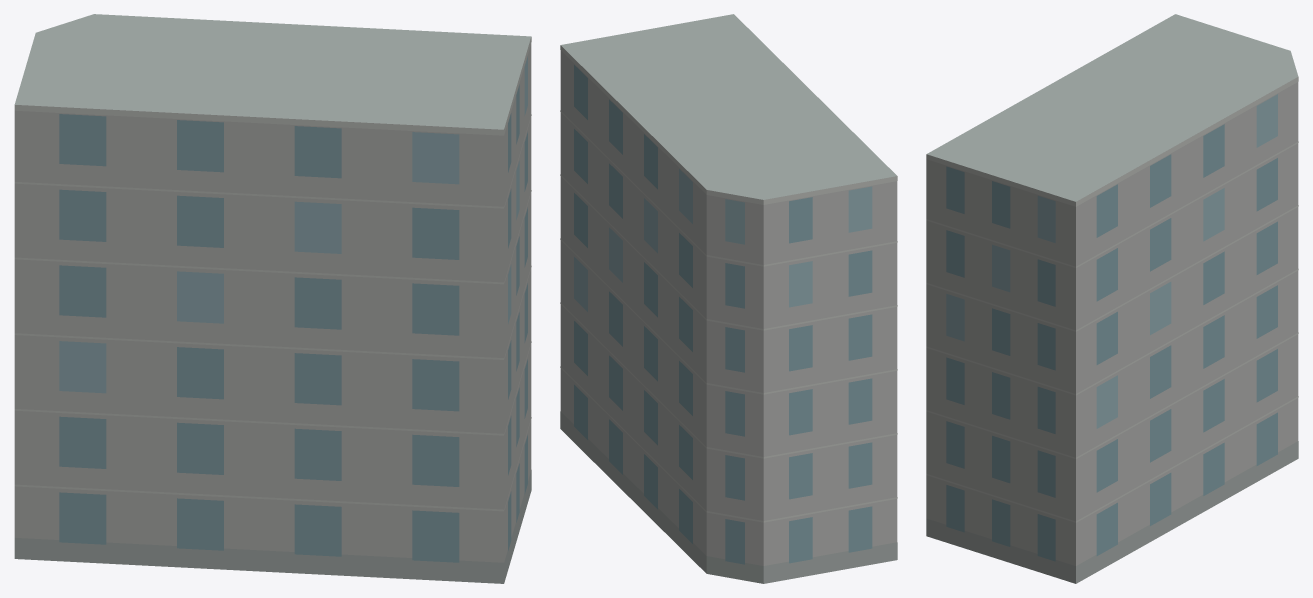
Rendered from survey-upis-32631753.glb.
The picture shows the model from 3 angles, left to right: view 1: azimuth 30°, elevation 25°; view 2: azimuth 150°, elevation 25°; view 3: azimuth 270°, elevation 25°; orthographic projection. The views are drawn at different scales.
Parts seen in each view (by area): view 1: survey-upis-32631753.tmp; view 2: survey-upis-32631753.tmp; view 3: survey-upis-32631753.tmp.
Part boxes in pixels (<box>): survey-upis-32631753.tmp: <box>14,14,531,583</box>; survey-upis-32631753.tmp: <box>560,14,897,583</box>; survey-upis-32631753.tmp: <box>926,14,1298,583</box>.
Bounding box in the file's own units: 19.59 × 18.55 × 16.4.
